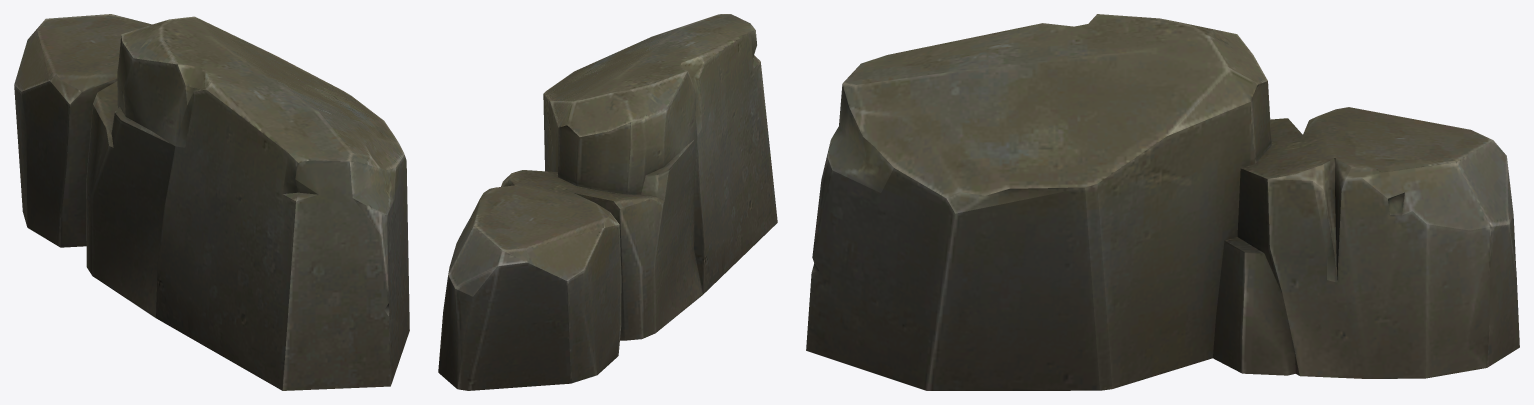
The model's file is riveredge_rock005a.fbx.
3 renders of one model, left to right at view 1: azimuth 30°, elevation 25°; view 2: azimuth 150°, elevation 25°; view 3: azimuth 270°, elevation 25°, orthographic. The views are drawn at different scales.
Visible parts, largest first — view 1: riveredge_rock005a; view 2: riveredge_rock005a; view 3: riveredge_rock005a.
Boxes of the visible parts, x1=… form: riveredge_rock005a: x1=14, y1=14, x2=409, y2=390; riveredge_rock005a: x1=438, y1=14, x2=777, y2=390; riveredge_rock005a: x1=806, y1=14, x2=1519, y2=390.
Bounding box in the file's own units: 128 × 160 × 357.
